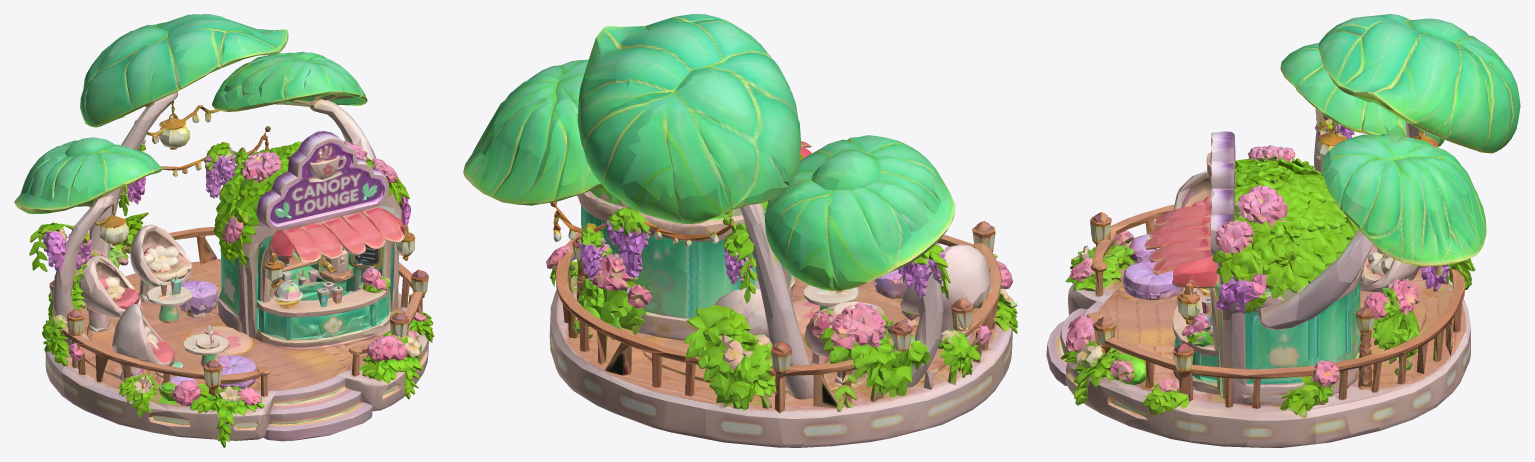
The model's file is city-canopy.glb.
3 views of the same model, side by side, from view 1: azimuth 30°, elevation 25°; view 2: azimuth 150°, elevation 25°; view 3: azimuth 270°, elevation 25° (orthographic). The views are drawn at different scales.
Size of the model in its own units: 1.89 by 1.52 by 1.89.
Materials: 1 (1 with a texture image).
